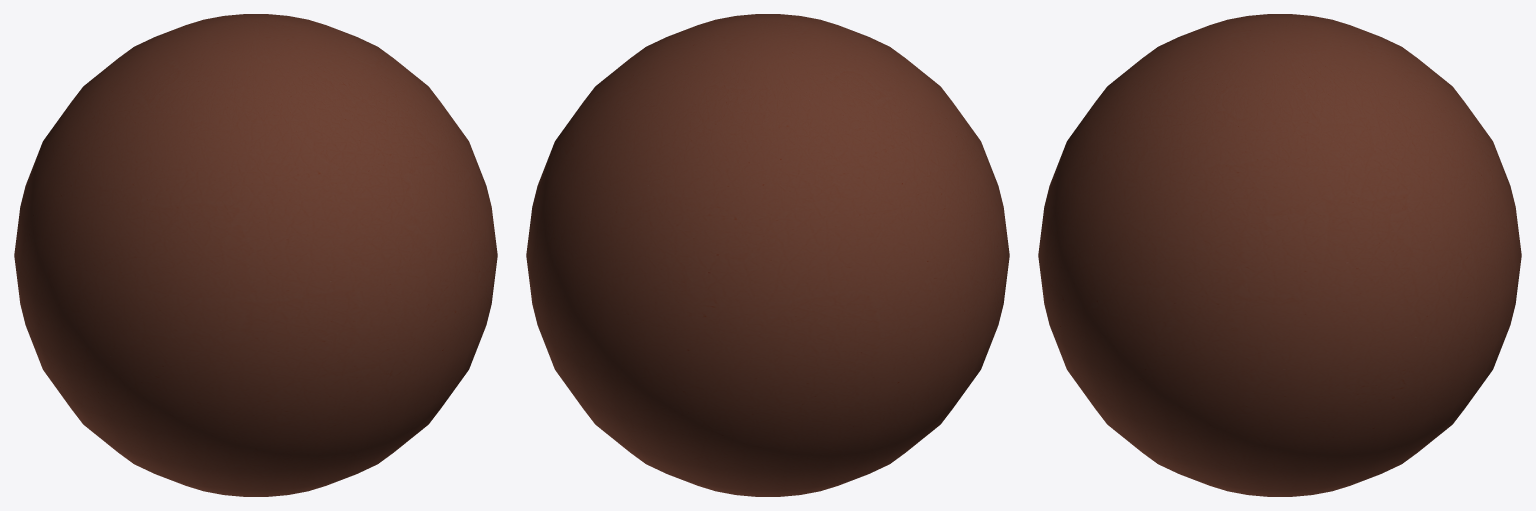
Rendered from Bolaa.fbx.
The picture shows the model from 3 angles, left to right: view 1: azimuth 30°, elevation 25°; view 2: azimuth 150°, elevation 25°; view 3: azimuth 270°, elevation 25°; orthographic projection.
Parts seen in each view (by area): view 1: Sphere; view 2: Sphere; view 3: Sphere.
Boxes of the visible parts, bbox=[...] form: Sphere: bbox=[14, 14, 497, 496]; Sphere: bbox=[526, 14, 1009, 496]; Sphere: bbox=[1038, 14, 1521, 496].
Size of the model in its own units: 29.47 by 29.64 by 29.64.
1 material, 1 textured.
